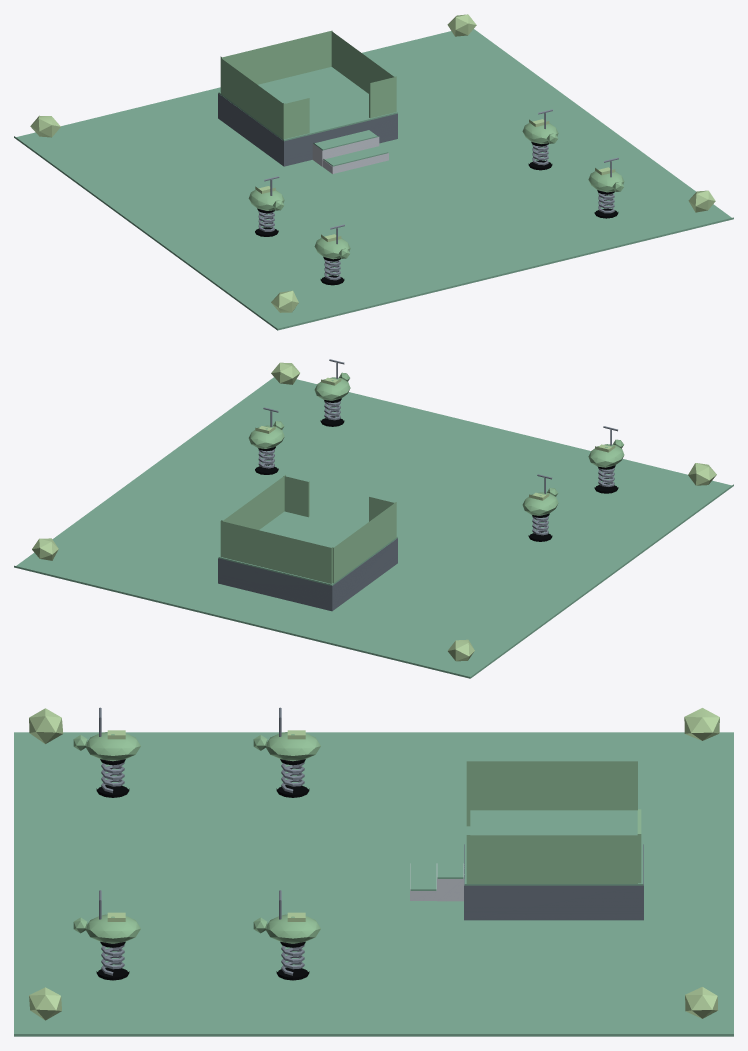
The picture shows the model from 3 angles, top to bottom: view 1: azimuth 30°, elevation 25°; view 2: azimuth 150°, elevation 25°; view 3: azimuth 270°, elevation 25°; orthographic projection. The views are drawn at different scales.
Visible parts, largest first — view 1: Safety_Pad, Deck_Guards, Deck_Top, Toddler_Deck, Foliage, Deck_Steps, Step_Treads, Rider1_Body, Rider2_Body, Rider4_Body, Rider3_Body; view 2: Safety_Pad, Deck_Guards, Toddler_Deck, Deck_Top, Foliage, Rider2_Body, Rider1_Body, Rider4_Body, Rider3_Body; view 3: Safety_Pad, Deck_Guards, Toddler_Deck, Deck_Top, Foliage, Step_Treads, Rider1_Body, Rider3_Body, Rider2_Body, Rider4_Body, Deck_Steps, Rider1_Spring (+1 smaller).
Boxes of the visible parts, left/top/right/bottom form: Safety_Pad: left=14, top=29, right=733, bottom=330; Deck_Guards: left=220, top=30, right=396, bottom=139; Deck_Top: left=218, top=67, right=397, bottom=141; Toddler_Deck: left=218, top=93, right=397, bottom=166; Foliage: left=30, top=14, right=715, bottom=312; Deck_Steps: left=312, top=137, right=388, bottom=173; Step_Treads: left=313, top=130, right=388, bottom=166; Rider1_Body: left=248, top=189, right=284, bottom=210; Rider2_Body: left=522, top=121, right=558, bottom=143; Rider4_Body: left=588, top=171, right=624, bottom=192; Rider3_Body: left=314, top=238, right=350, bottom=259; Safety_Pad: left=14, top=377, right=733, bottom=678; Deck_Guards: left=220, top=475, right=396, bottom=583; Toddler_Deck: left=218, top=538, right=397, bottom=611; Deck_Top: left=218, top=511, right=397, bottom=585; Foliage: left=32, top=362, right=716, bottom=661; Rider2_Body: left=248, top=421, right=284, bottom=448; Rider1_Body: left=522, top=488, right=558, bottom=515; Rider4_Body: left=314, top=372, right=350, bottom=400; Rider3_Body: left=588, top=439, right=624, bottom=467; Safety_Pad: left=14, top=732, right=733, bottom=1036; Deck_Guards: left=466, top=761, right=641, bottom=883; Toddler_Deck: left=464, top=844, right=643, bottom=920; Deck_Top: left=464, top=810, right=643, bottom=885; Foliage: left=29, top=708, right=719, bottom=1020; Step_Treads: left=410, top=841, right=463, bottom=890; Rider1_Body: left=253, top=732, right=320, bottom=761; Rider3_Body: left=73, top=732, right=140, bottom=761; Rider2_Body: left=253, top=914, right=320, bottom=943; Rider4_Body: left=73, top=914, right=140, bottom=943; Deck_Steps: left=410, top=863, right=464, bottom=901; Rider1_Spring: left=281, top=762, right=304, bottom=793.
Size of what is drawn, in the model's own units: 8 by 1.07 by 8.
Materials: 8 (4 with a texture image).
